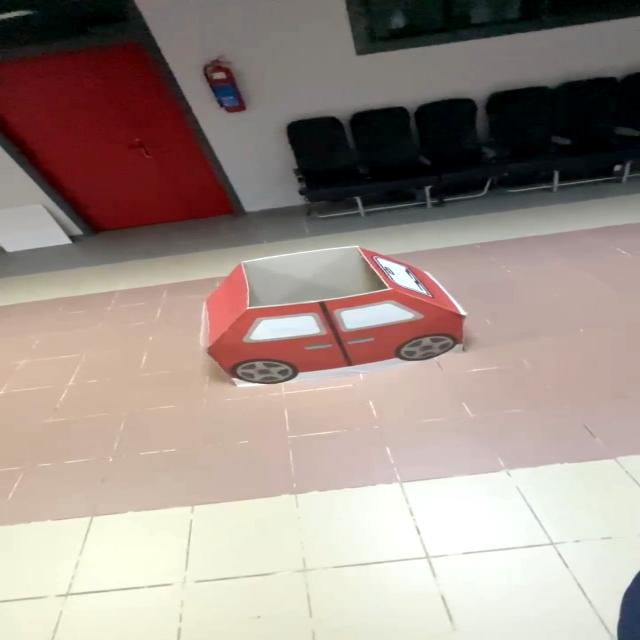red_car: (183, 235, 483, 403)
